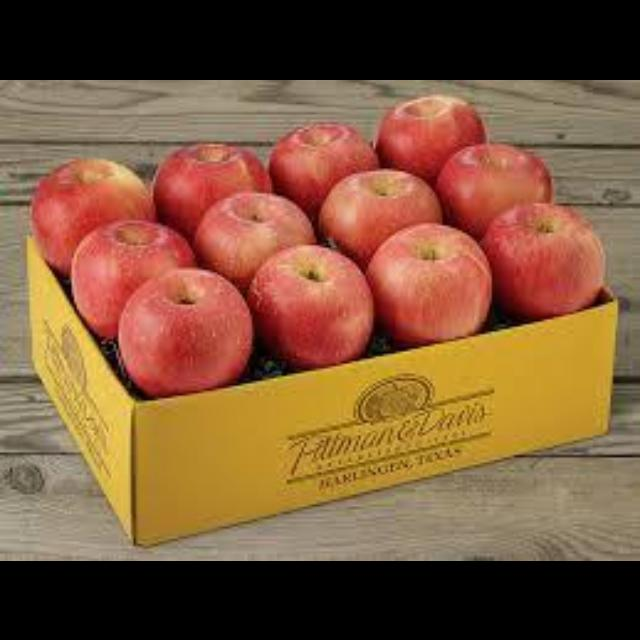apple: (119, 267, 252, 395), (247, 245, 371, 366), (366, 222, 489, 343), (72, 217, 193, 336), (479, 203, 603, 319), (32, 158, 153, 274), (193, 190, 314, 292), (319, 168, 440, 267), (153, 143, 269, 237), (435, 143, 551, 237), (267, 121, 376, 220), (376, 94, 484, 183)
